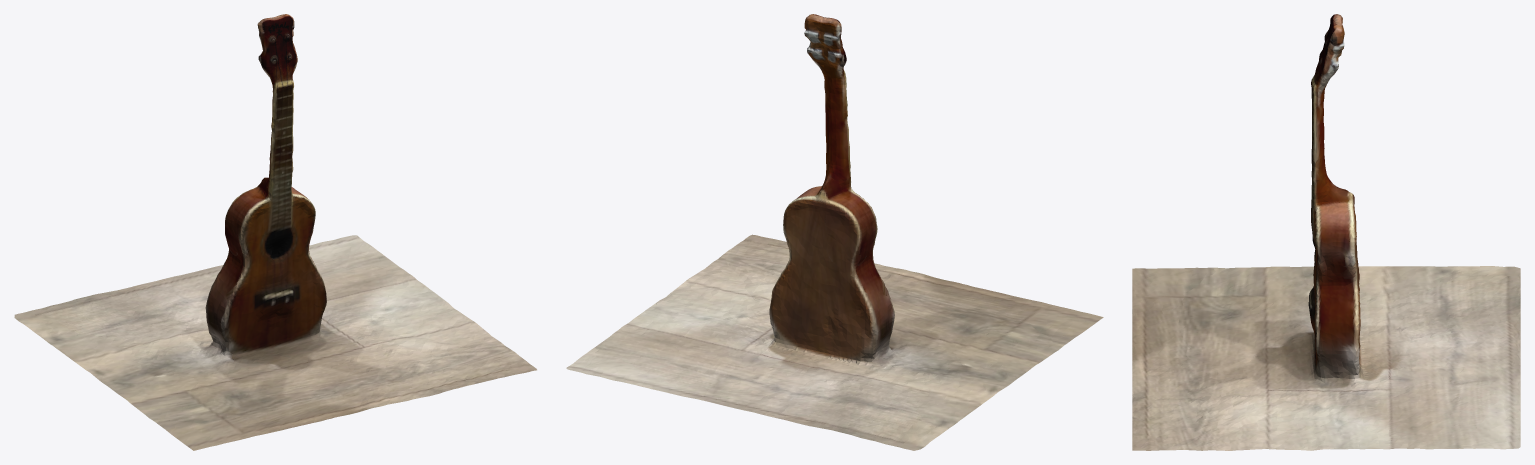
The model's file is kohala.glb.
3 renders of one model, left to right at view 1: azimuth 30°, elevation 25°; view 2: azimuth 150°, elevation 25°; view 3: azimuth 270°, elevation 25°, orthographic. The views are drawn at different scales.
Size of the model in its own units: 0.676 by 0.6071 by 0.6198.
1 material, 1 textured.
